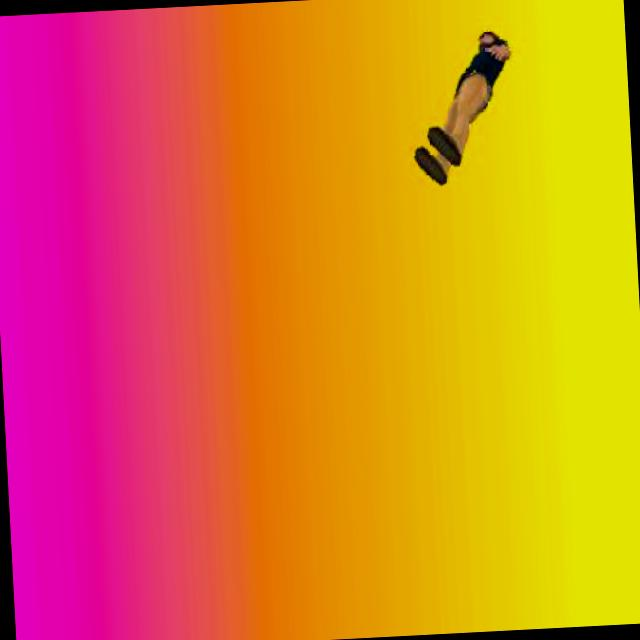Person: (403, 26, 522, 192)
